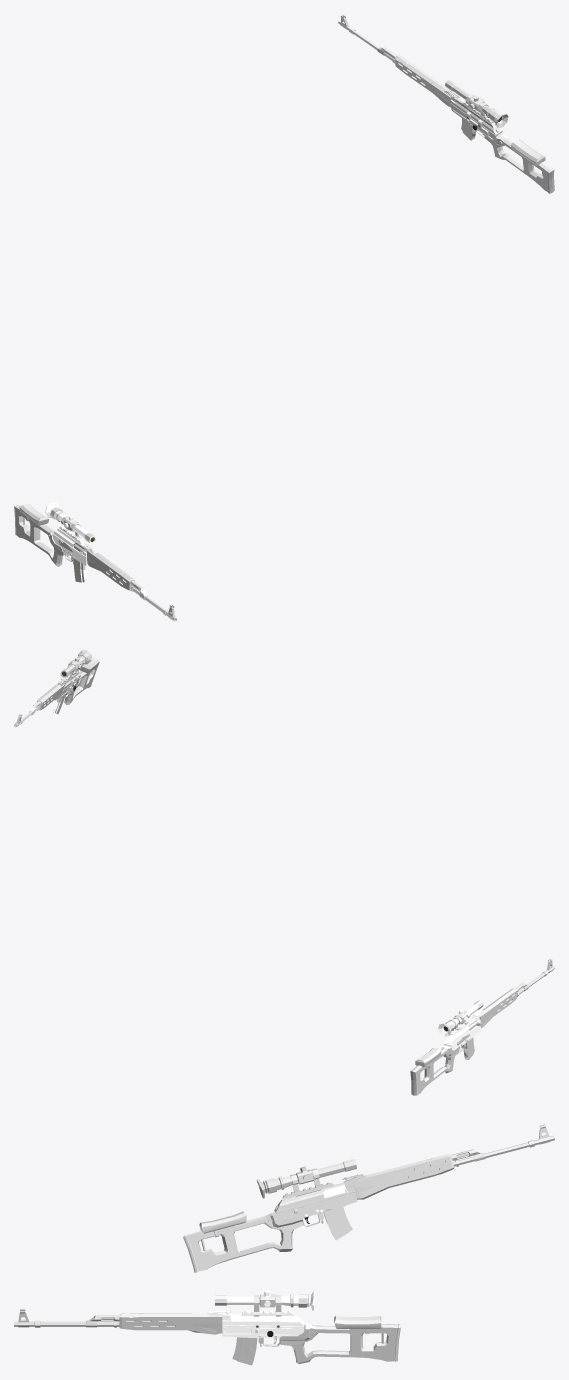
The model's file is item_19.glb.
The picture shows the model from 3 angles, top to bottom: view 1: azimuth 30°, elevation 25°; view 2: azimuth 150°, elevation 25°; view 3: azimuth 270°, elevation 25°; orthographic projection. The views are drawn at different scales.
Parts seen in each view (by area): view 1: Dragunov, Dragunov_2; view 2: Dragunov; view 3: Dragunov, Dragunov_2, Dragunov_002_2, Dragunov_002, Dragunov_007_2, Dragunov_007, Dragunov_014_2, Dragunov_001, Dragunov_001_2, Dragunov_014, Dragunov_015, Dragunov_01_Sight_2 (+10 smaller).
Part boxes in pixels (left/top/right/bottom): Dragunov: left=50, top=507, right=97, bottom=579; Dragunov_2: left=444, top=91, right=505, bottom=138; Dragunov: left=442, top=1000, right=484, bottom=1057; Dragunov: left=209, top=1294, right=311, bottom=1361; Dragunov_2: left=269, top=1176, right=365, bottom=1220; Dragunov_002_2: left=192, top=1214, right=293, bottom=1271; Dragunov_002: left=291, top=1324, right=395, bottom=1363; Dragunov_007_2: left=360, top=1158, right=447, bottom=1199; Dragunov_007: left=125, top=1313, right=218, bottom=1334; Dragunov_014_2: left=185, top=1216, right=303, bottom=1266; Dragunov_001: left=334, top=1316, right=400, bottom=1361; Dragunov_001_2: left=183, top=1211, right=246, bottom=1272; Dragunov_014: left=280, top=1324, right=398, bottom=1359; Dragunov_015: left=122, top=1313, right=222, bottom=1333; Dragunov_01_Sight_2: left=256, top=1162, right=344, bottom=1198.
Bounding box in the file's own units: 2.76 × 2.19 × 2.3.
Materials: 38 (2 with a texture image).
